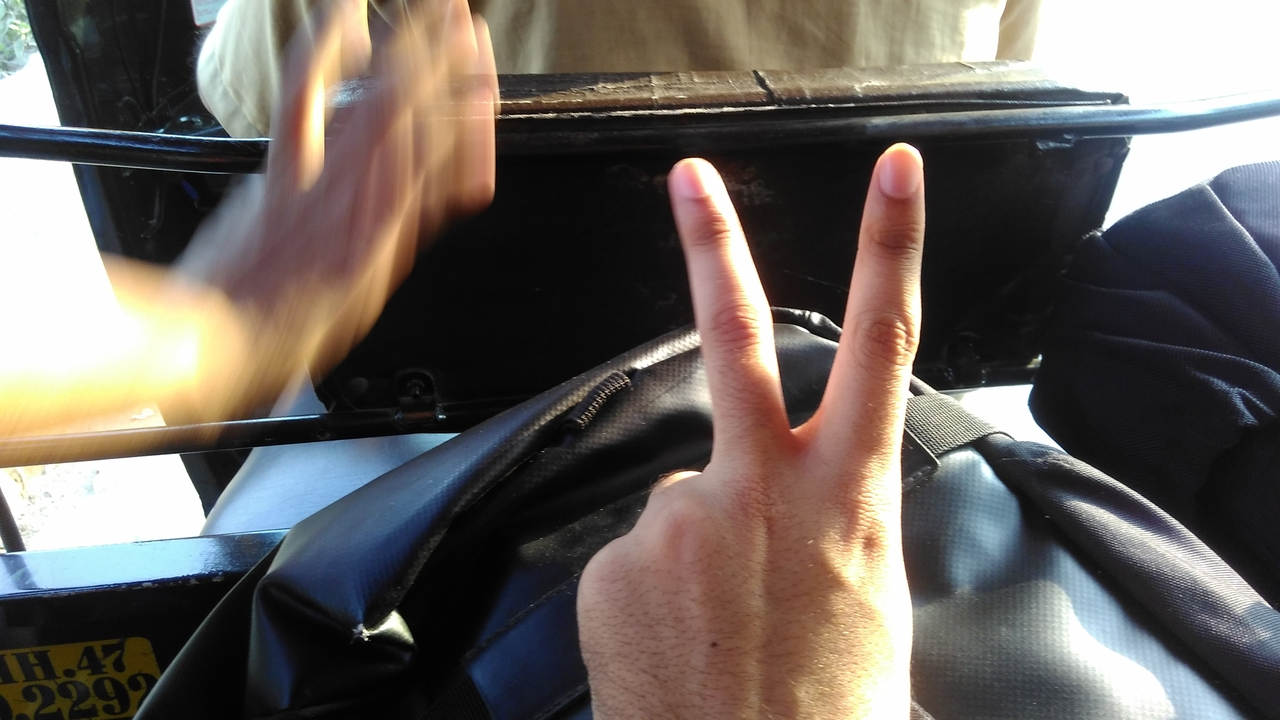fingertip: (866, 134, 932, 210), (668, 150, 728, 216)
